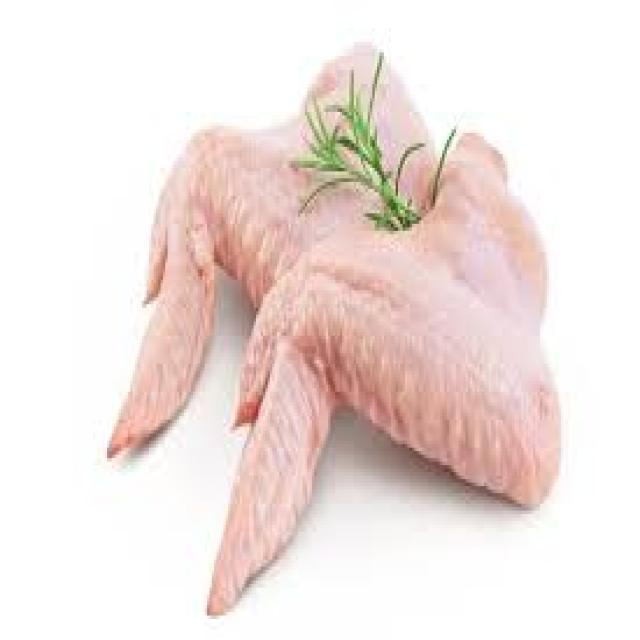wing: (223, 133, 557, 620), (62, 36, 429, 420)
